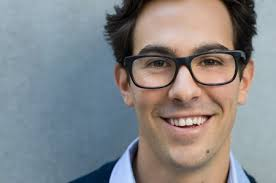Glasses: (117, 49, 245, 90)
